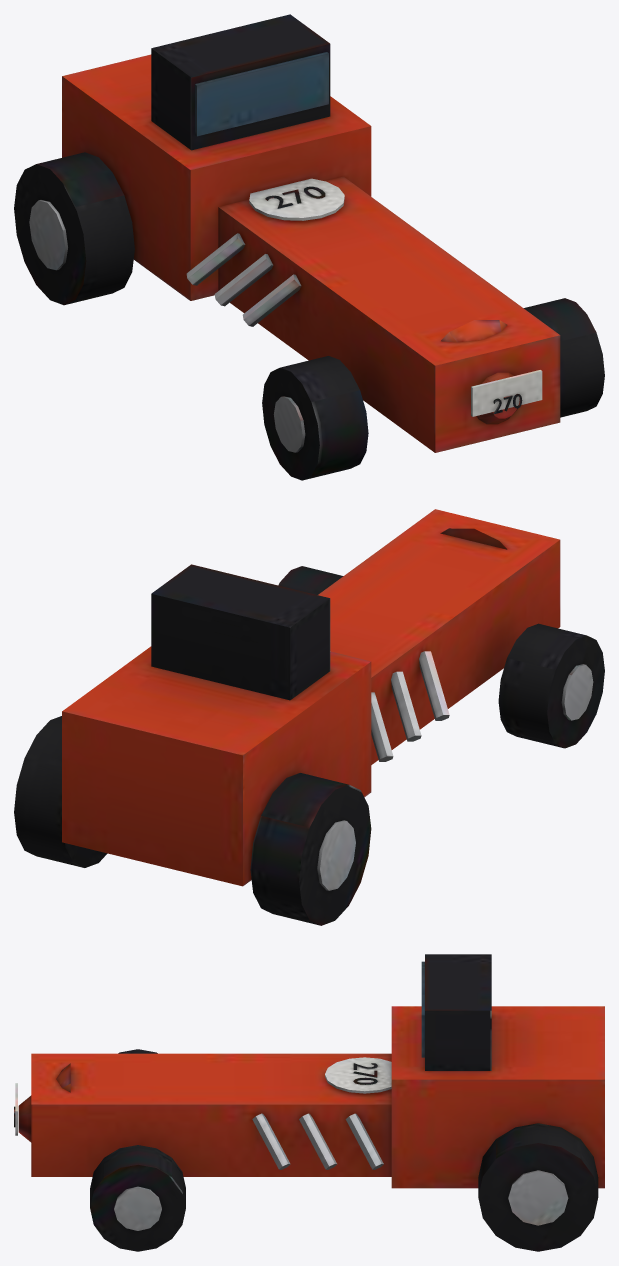
The model's file is hot_rod.glb.
3 views of the same model, one above another, from view 1: azimuth 30°, elevation 25°; view 2: azimuth 150°, elevation 25°; view 3: azimuth 270°, elevation 25° (orthographic). The views are drawn at different scales.
Parts seen in each view (by area): view 1: hot_rod; view 2: hot_rod; view 3: hot_rod.
Part boxes in pixels (bbox=[...]): hot_rod: bbox=[14, 14, 604, 480]; hot_rod: bbox=[14, 509, 604, 925]; hot_rod: bbox=[14, 954, 604, 1251].
Bounding box in the file's own units: 2.09 × 1.75 × 4.43.
Materials: 1 (1 with a texture image).
